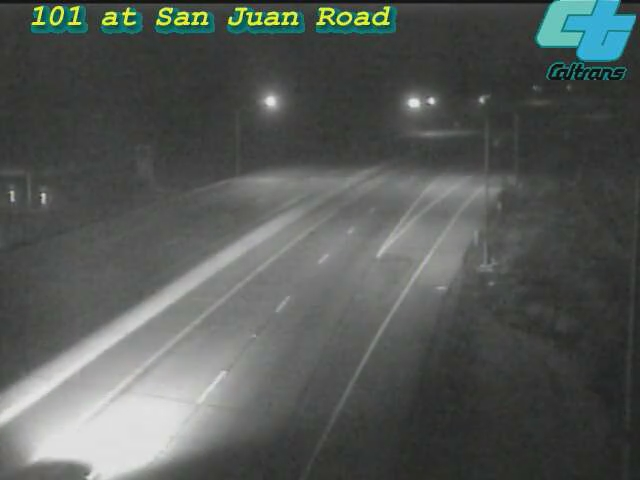vehicle: (4, 418, 114, 480)
